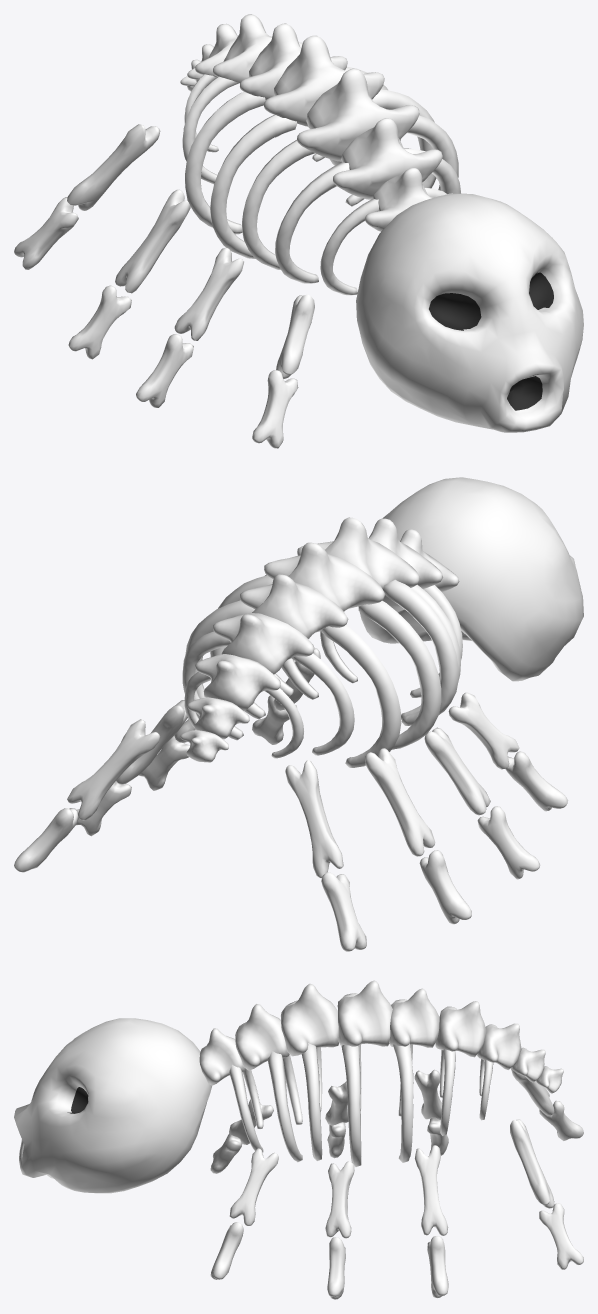
File: TardBonesMesh.fbx
The picture shows the model from 3 angles, top to bottom: view 1: azimuth 30°, elevation 25°; view 2: azimuth 150°, elevation 25°; view 3: azimuth 270°, elevation 25°; orthographic projection. The views are drawn at different scales.
Visible parts, largest first — view 1: Skull, ArmUpper (×4), ArmLower (×4), Spine1, Spine2, Spine9, Rib, Rib4, Spine4, Rib1, Rib2, Spine3 (+7 smaller); view 2: Skull, ArmUpper (×6), ArmLower (×8), Spine9, Spine5, Spine4, Rib, Rib4, Spine1, Spine6, Rib1, Rib5 (+12 smaller); view 3: Skull, ArmUpper (×8), ArmLower (×8), Spine1, Spine9, Spine4, Spine2, Spine5, Rib10, Spine3, Rib11, Spine6 (+9 smaller).
Part boxes in pixels (left/top/right/bottom): Skull: left=356, top=193, right=583, bottom=432; ArmUpper (×4): left=67, top=124, right=314, bottom=378; ArmLower (×4): left=14, top=197, right=298, bottom=448; Spine1: left=297, top=68, right=419, bottom=161; Spine2: left=333, top=118, right=442, bottom=199; Spine9: left=264, top=35, right=384, bottom=126; Rib: left=210, top=115, right=296, bottom=258; Rib4: left=185, top=91, right=265, bottom=234; Spine4: left=240, top=23, right=347, bottom=100; Rib1: left=242, top=140, right=314, bottom=269; Rib2: left=275, top=162, right=349, bottom=283; Spine3: left=365, top=167, right=452, bottom=231; Skull: left=359, top=477, right=583, bottom=681; ArmUpper (×6): left=67, top=692, right=519, bottom=878; ArmLower (×8): left=14, top=695, right=568, bottom=951; Spine9: left=264, top=542, right=385, bottom=611; Spine5: left=213, top=613, right=314, bottom=674; Spine4: left=240, top=574, right=348, bottom=638; Rib: left=358, top=600, right=441, bottom=749; Rib4: left=321, top=624, right=401, bottom=767; Spine1: left=297, top=517, right=419, bottom=588; Spine6: left=195, top=654, right=280, bottom=711; Rib1: left=383, top=579, right=458, bottom=725; Rib5: left=291, top=653, right=354, bottom=755; Skull: left=14, top=1018, right=211, bottom=1193; ArmUpper (×8): left=229, top=1067, right=554, bottom=1238; ArmLower (×8): left=210, top=1100, right=583, bottom=1299; Spine1: left=281, top=983, right=338, bottom=1056; Spine9: left=337, top=980, right=392, bottom=1046; Spine4: left=389, top=988, right=439, bottom=1047; Spine2: left=235, top=1004, right=289, bottom=1070; Spine5: left=435, top=1001, right=486, bottom=1057; Rib10: left=341, top=1045, right=361, bottom=1166; Spine3: left=199, top=1028, right=245, bottom=1085; Rib11: left=393, top=1043, right=413, bottom=1162; Spine6: left=477, top=1023, right=521, bottom=1069.
Bounding box in the file's own units: 2.96 × 2.17 × 4.54.
